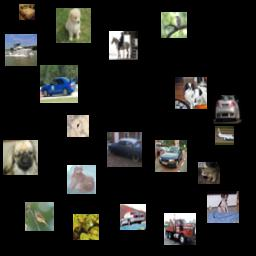airplane: (67, 115, 89, 137), (215, 126, 234, 145)
automobile: (40, 65, 78, 103), (107, 132, 142, 167), (155, 140, 187, 172), (213, 95, 242, 124), (120, 204, 146, 230), (19, 4, 35, 20)
bird: (25, 202, 54, 231), (161, 12, 187, 38)
cat: (67, 165, 96, 194)
dog: (56, 8, 91, 43), (3, 140, 38, 175), (175, 77, 207, 109), (207, 191, 239, 223)
frog: (73, 214, 99, 240), (198, 162, 220, 184)
ship: (5, 34, 37, 66)
truck: (164, 213, 196, 245)
